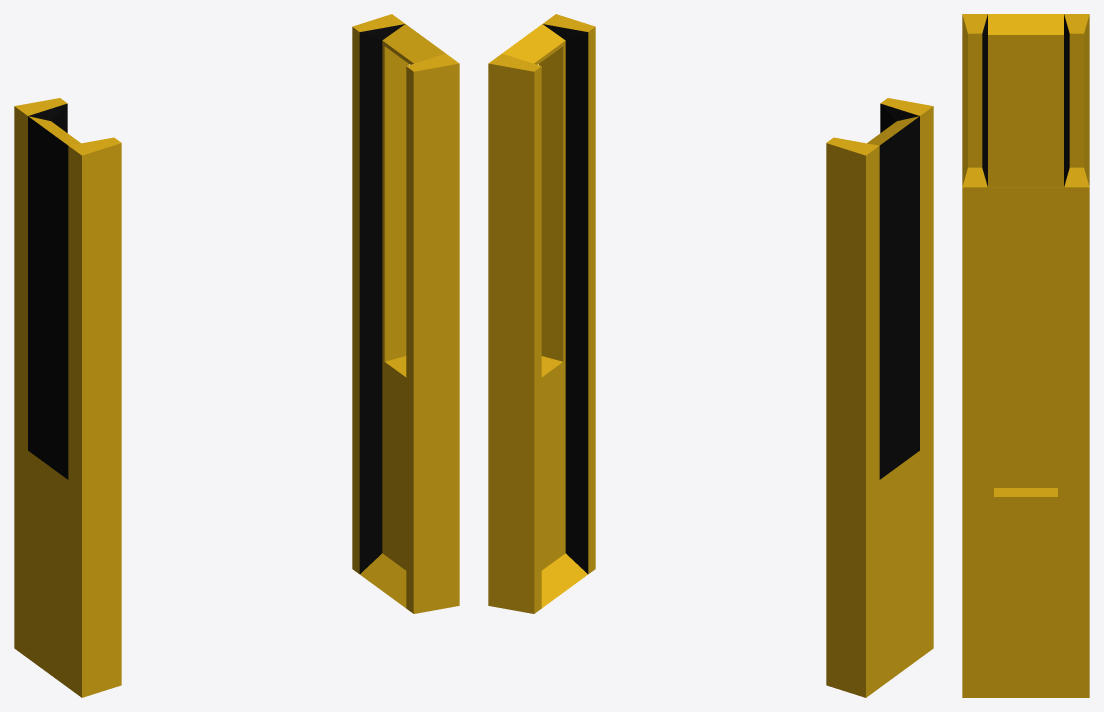
File: _lev1.fbx
3 renders of one model, left to right at view 1: azimuth 30°, elevation 25°; view 2: azimuth 150°, elevation 25°; view 3: azimuth 270°, elevation 25°, orthographic. The views are drawn at different scales.
Visible parts, largest first — view 1: elev 1; view 2: elev 1; view 3: elev 1.
Part boxes in pixels (x1,y1,x2,y2): elev 1: [14, 14, 459, 697]; elev 1: [488, 14, 933, 697]; elev 1: [962, 14, 1089, 697].
Size of the model in its own units: 423 by 581 by 131.
